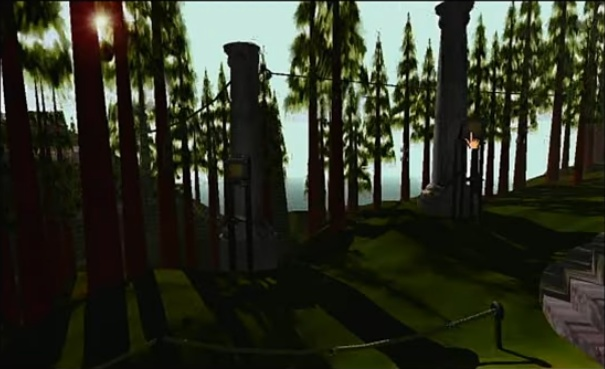Pointer: (461, 129, 485, 151)
